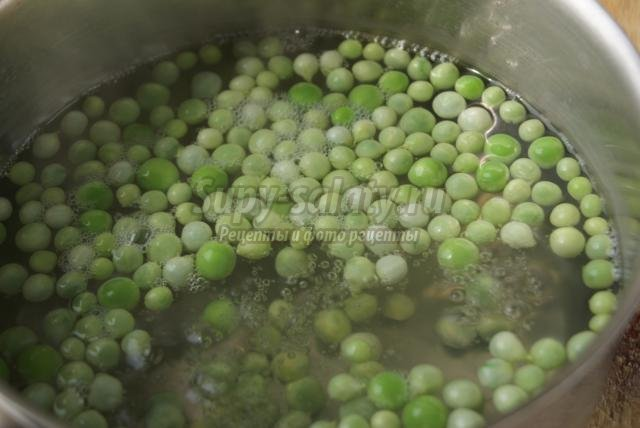boiled peas: (101, 108, 493, 178), (319, 292, 468, 411), (21, 236, 135, 379)
